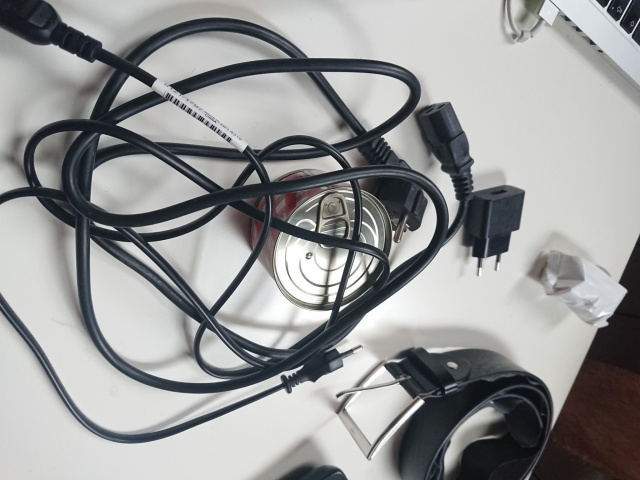Podravka Luncheon Meat 150g: (244, 165, 396, 315)
